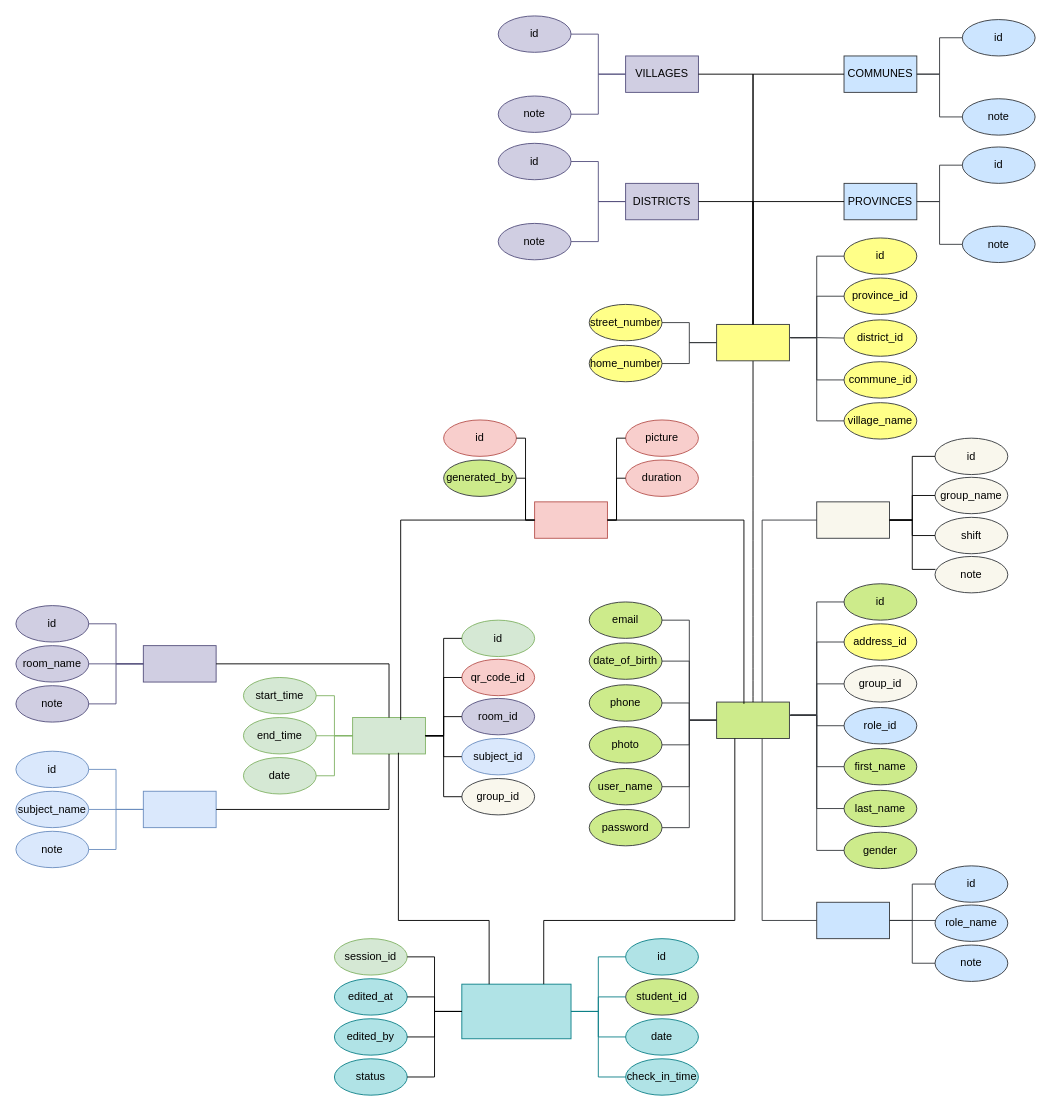
This 1051x1111 diagram has some shape labels left out. Here are the shapes that lost their labels. From the top down, the centre of each, then its label:
At point (752, 342): "ADDRESSES".
At point (570, 519): "QR_CODES".
At point (853, 519): "GROUPS".
At point (179, 663): "ROOMS".
At point (388, 735): "SESSIONS".
At point (752, 719): "USERS".
At point (179, 809): "SUBJECTS".
At point (853, 920): "ROLES".
At point (516, 1011): "ATTENDANTS".
